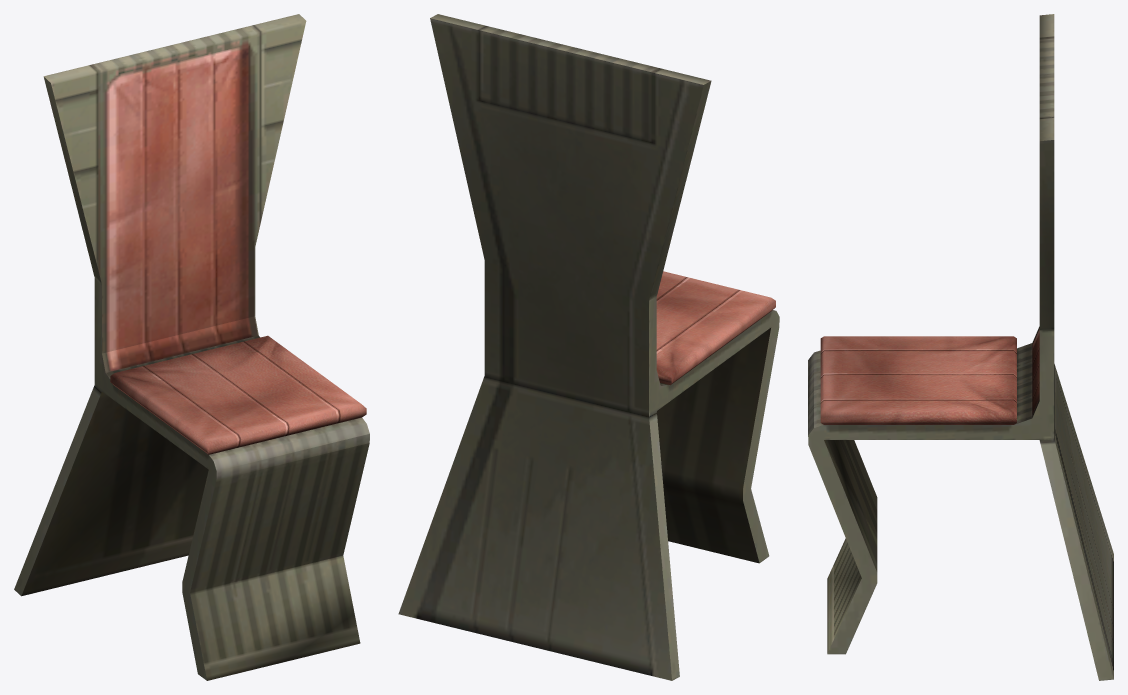
The model's file is CHAIR02.glb.
3 renders of one model, left to right at view 1: azimuth 30°, elevation 25°; view 2: azimuth 150°, elevation 25°; view 3: azimuth 270°, elevation 25°, orthographic. The views are drawn at different scales.
Parts seen in each view (by area): view 1: chair02; view 2: chair02; view 3: chair02.
Part boxes in pixels (bbox=[...]): chair02: bbox=[14, 14, 369, 680]; chair02: bbox=[398, 14, 779, 680]; chair02: bbox=[808, 14, 1113, 680].
Bounding box in the file's own units: 31.73 × 63.62 × 32.57.
Materials: 1 (1 with a texture image).
